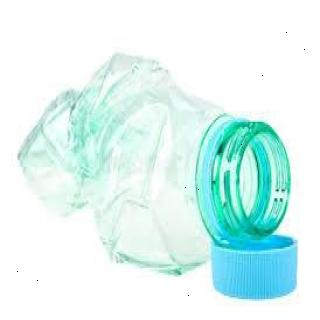Plastic-bottle: (16, 48, 301, 304)
